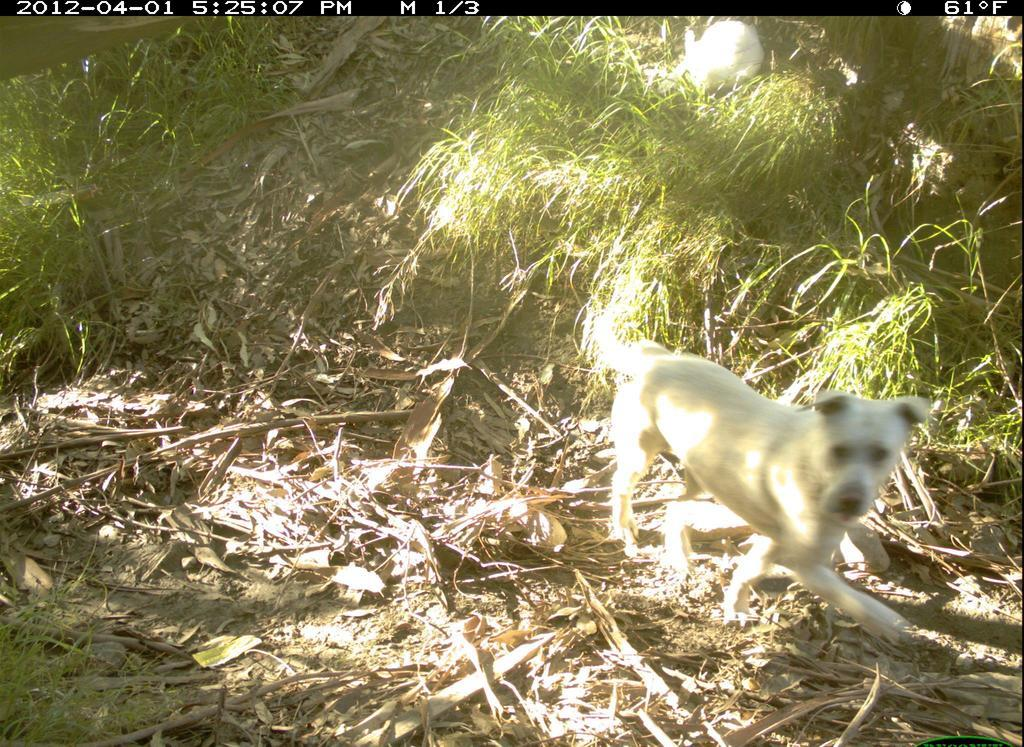dog: (584, 296, 939, 657)
